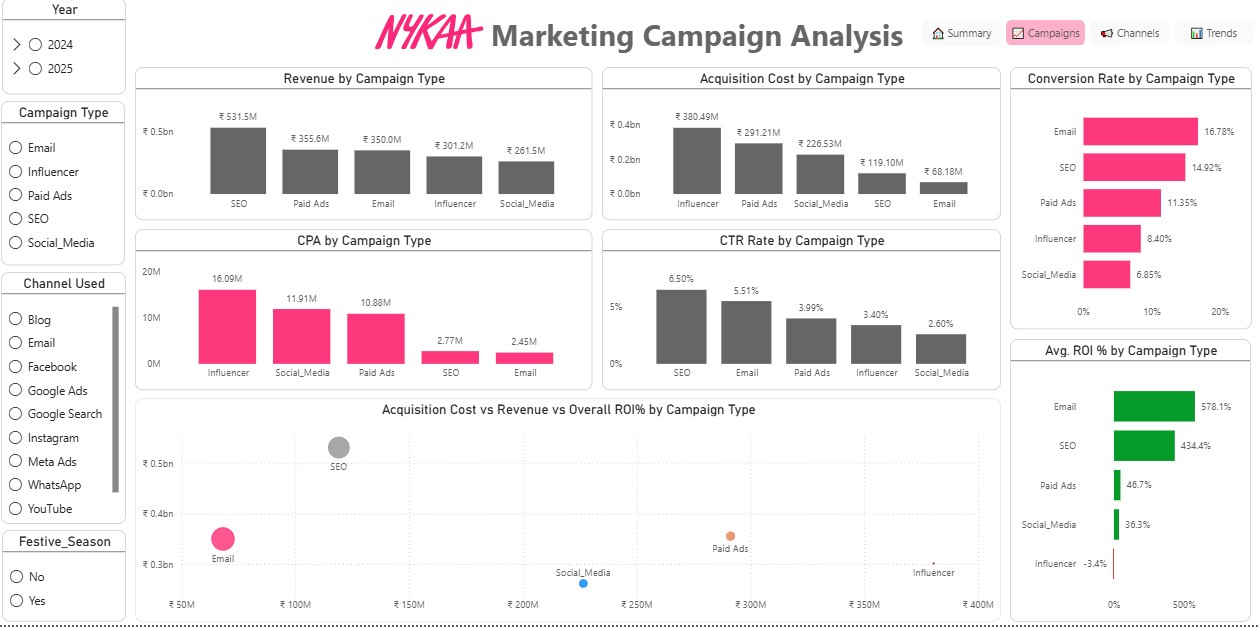

What the dashboard file says about the page in this screenshot:
{"tool":"powerbi","page":{"name":"Campaign Performance","canvas":[1600,800],"ordinal":1},"visuals":[{"type":"listSlicer","fields":{"Values":["nykaa_db campaigns.Date.Variation.Date Hierarchy.Year","nykaa_db campaigns.Date.Variation.Date Hierarchy.Quarter"]},"box":[8.9,6.3,157,121.5],"z":0},{"type":"listSlicer","fields":{"Values":["nykaa_db campaigns.Channel_Used"]},"box":[7.6,353.2,158.2,319],"z":1000},{"type":"listSlicer","fields":{"Values":["nykaa_db campaigns.Campaign_Type"]},"box":[7.6,136.7,157,207.6],"z":2000},{"type":"columnChart","title":"Revenue by Campaign Type","fields":{"Category":["nykaa_db campaigns.Campaign_Type"],"Y":["Measures (2).Total Revenue"]},"box":[176.8,93.4,578.6,193.8],"z":3000},{"type":"barChart","title":"Conversion Rate by Campaign Type","fields":{"Category":["nykaa_db campaigns.Campaign_Type"],"Y":["Measures (2).Conversion Rate %"]},"box":[1284.5,93.4,305.6,332.4],"z":4000},{"type":"textbox","box":[177.2,21.5,1412.7,72.2],"z":5000},{"type":"image","box":[457,21.5,184.8,54.4],"z":6000},{"type":"columnChart","title":"Acquisition Cost by Campaign Type","fields":{"Category":["nykaa_db campaigns.Campaign_Type"],"Y":["Measures (2).Total Acquisition Cost"]},"box":[768.2,93.4,505,193.8],"z":7000},{"type":"columnChart","title":"CPA by Campaign Type","fields":{"Category":["nykaa_db campaigns.Campaign_Type"],"Y":["Measures (2).Total CPA"]},"box":[176.8,298.5,578.6,203.7],"z":8000},{"type":"columnChart","title":"CTR Rate by Campaign Type","fields":{"Category":["nykaa_db campaigns.Campaign_Type"],"Y":["Measures (2).CTR %"]},"box":[768.2,298.5,505,203.7],"z":9000},{"type":"clusteredBarChart","title":"Avg. ROI % by Campaign Type","fields":{"Category":["nykaa_db campaigns.Campaign_Type"],"Y":["Measures (2).Average ROI%"]},"box":[1284.8,438,305.1,358.2],"z":10000},{"type":"scatterChart","title":"Acquisition Cost vs Revenue vs Overall ROI% by Campaign Type","fields":{"Series":["nykaa_db campaigns.Campaign_Type"],"Size":["Measures (2).Overall ROI%"],"X":["Measures (2).Total Acquisition Cost"],"Y":["Measures (2).Total Revenue"]},"box":[177.2,512.7,1096.2,283.5],"z":11000},{"type":"listSlicer","fields":{"Values":["nykaa_db campaigns.Festive_Season"]},"box":[8.9,679.7,157,116.5],"z":12000},{"type":"actionButton","box":[1173.6,34.3,100,32.9],"z":13000},{"type":"actionButton","box":[1280,34.3,100,32.1],"z":14000},{"type":"actionButton","box":[1385.7,34.3,100,32.1],"z":15000},{"type":"actionButton","box":[1492.1,34.3,100,32.1],"z":15001}]}

Visuals, with their boxes on the page's 1600x800 design canvas (x1, y1, x2, y2). These are canvas units, not pixel positions in the 1258x628 screenshot, which may show the page scaled, cropped or inside an application window:
listSlicer - nykaa_db campaigns.Date.Variation.Date Hierarchy.Year x nykaa_db campaigns.Date.Variation.Date Hierarchy.Quarter: {"left": 9, "top": 6, "right": 166, "bottom": 128}
listSlicer - nykaa_db campaigns.Channel_Used: {"left": 8, "top": 353, "right": 166, "bottom": 672}
listSlicer - nykaa_db campaigns.Campaign_Type: {"left": 8, "top": 137, "right": 165, "bottom": 344}
"Revenue by Campaign Type" columnChart: {"left": 177, "top": 93, "right": 755, "bottom": 287}
"Conversion Rate by Campaign Type" barChart: {"left": 1284, "top": 93, "right": 1590, "bottom": 426}
textbox: {"left": 177, "top": 22, "right": 1590, "bottom": 94}
image: {"left": 457, "top": 22, "right": 642, "bottom": 76}
"Acquisition Cost by Campaign Type" columnChart: {"left": 768, "top": 93, "right": 1273, "bottom": 287}
"CPA by Campaign Type" columnChart: {"left": 177, "top": 298, "right": 755, "bottom": 502}
"CTR Rate by Campaign Type" columnChart: {"left": 768, "top": 298, "right": 1273, "bottom": 502}
"Avg. ROI % by Campaign Type" clusteredBarChart: {"left": 1285, "top": 438, "right": 1590, "bottom": 796}
"Acquisition Cost vs Revenue vs Overall ROI% by Campaign Type" scatterChart: {"left": 177, "top": 513, "right": 1273, "bottom": 796}
listSlicer - nykaa_db campaigns.Festive_Season: {"left": 9, "top": 680, "right": 166, "bottom": 796}
actionButton: {"left": 1174, "top": 34, "right": 1274, "bottom": 67}
actionButton: {"left": 1280, "top": 34, "right": 1380, "bottom": 66}
actionButton: {"left": 1386, "top": 34, "right": 1486, "bottom": 66}
actionButton: {"left": 1492, "top": 34, "right": 1592, "bottom": 66}
